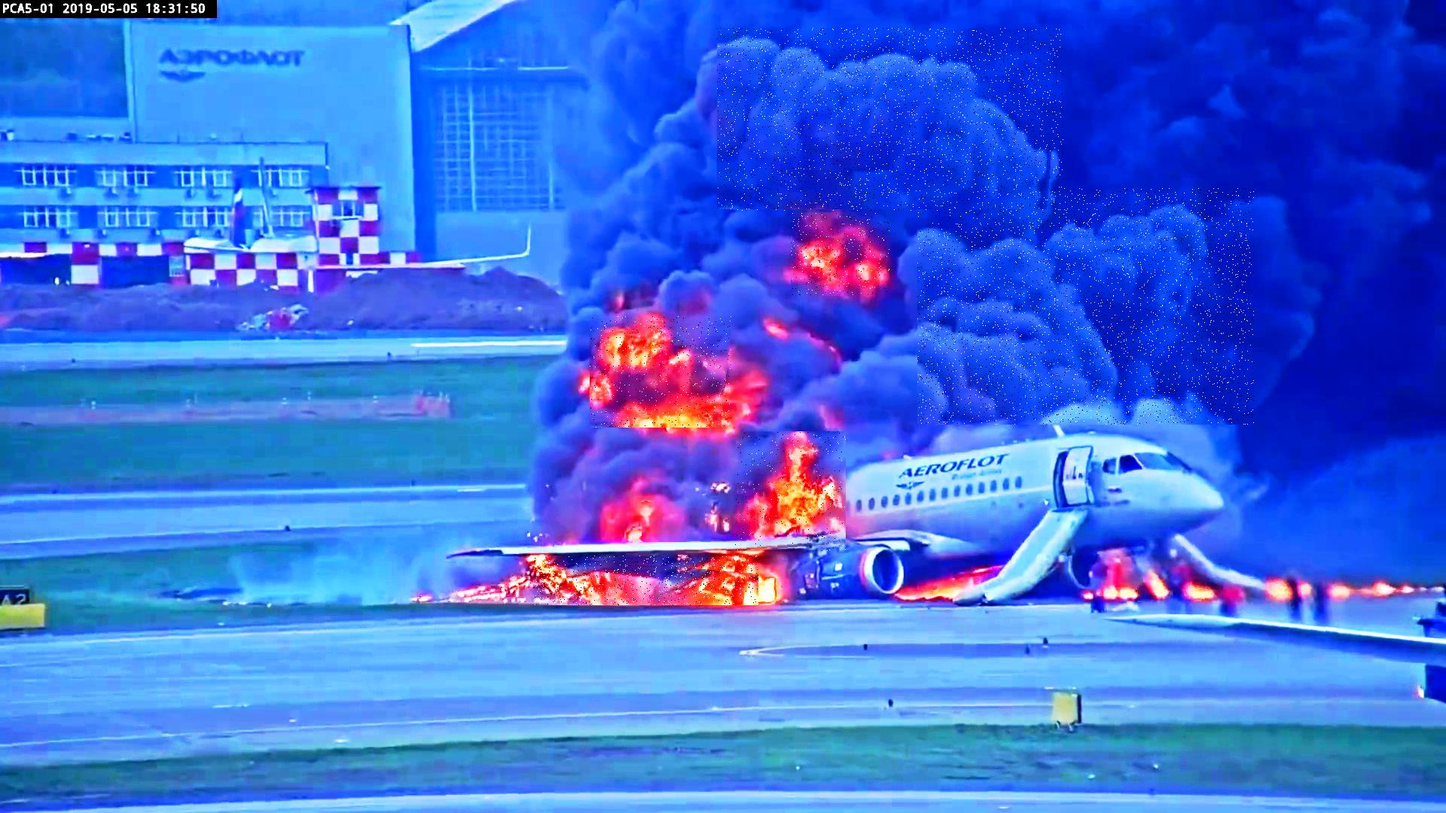fire: (590, 317, 731, 428), (734, 431, 846, 551), (535, 556, 759, 605), (791, 213, 890, 296)
smoke: (918, 189, 1254, 425), (718, 28, 1064, 211)
